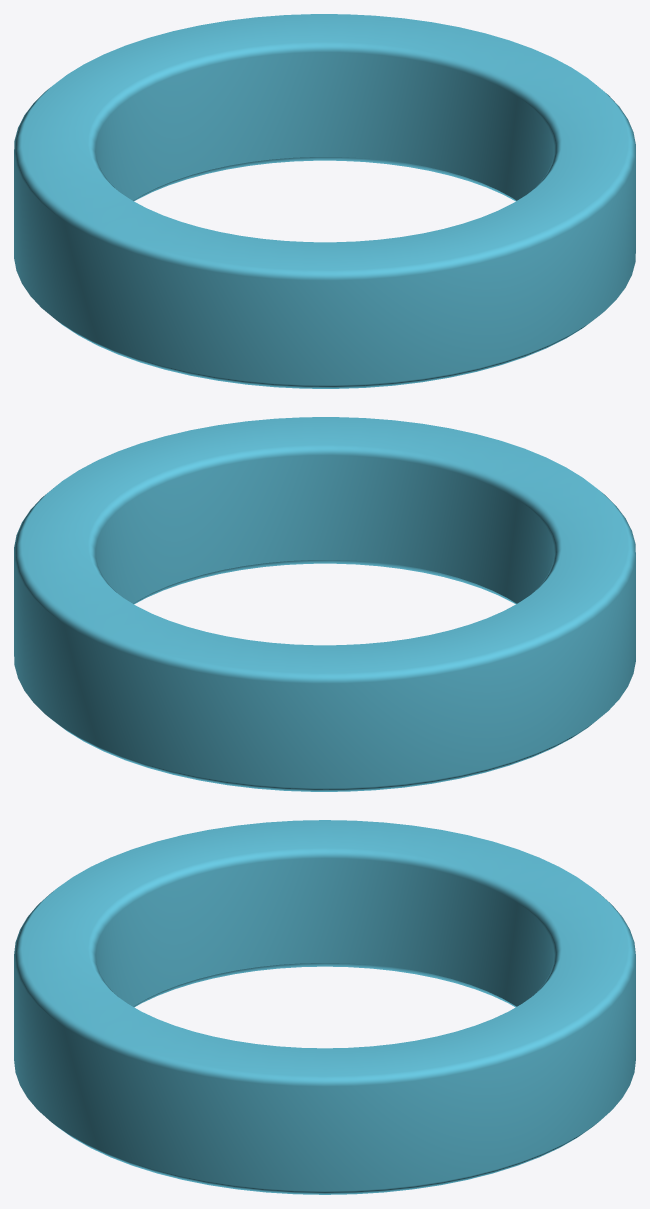
3 renders of one model, top to bottom at view 1: azimuth 30°, elevation 25°; view 2: azimuth 150°, elevation 25°; view 3: azimuth 270°, elevation 25°, orthographic.
Parts seen in each view (by area): view 1: seal_body; view 2: seal_body; view 3: seal_body.
Boxes of the visible parts, x1,y1,x2,y2 form: seal_body: (14, 14, 635, 388); seal_body: (14, 417, 635, 791); seal_body: (14, 820, 635, 1194).
Bounding box in the file's own units: 0.0603 × 0.0127 × 0.0603.
